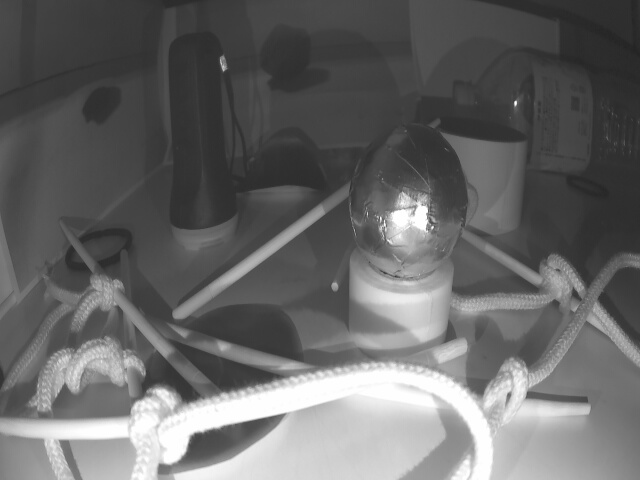Live: (348, 128, 470, 280)
